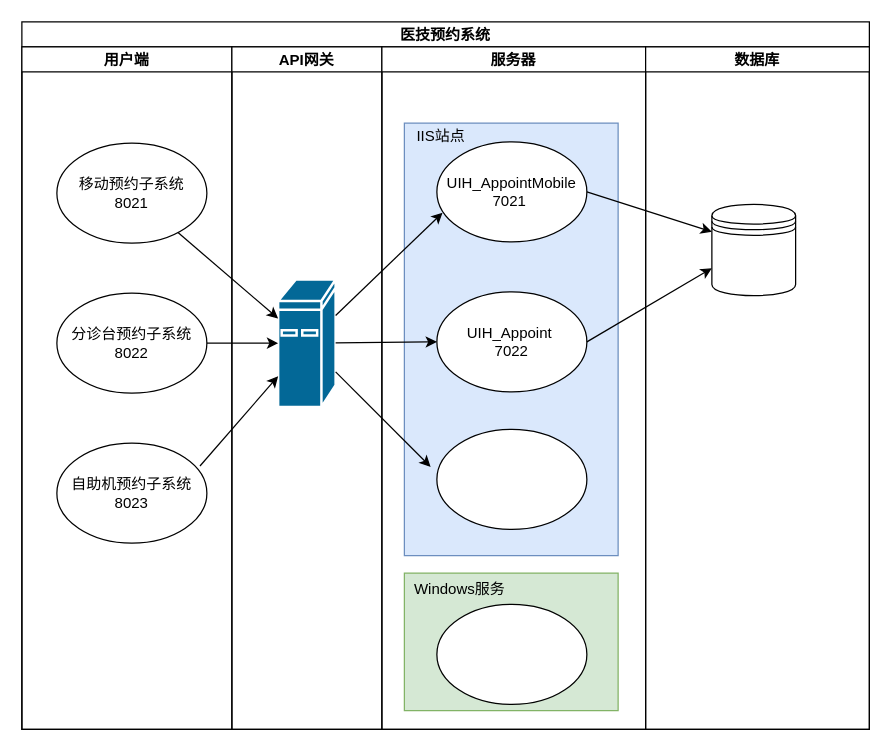
The diagram is 891 pixels wide and 751 high, and some of its shapes have lost their labels. The shapes that lost their labels are listed below. From the top down, each one's centre as x and y in pixels, then its label:
At point (753, 249): "DB".
At point (511, 478): "UIH_AppointSelfService 7023".
At point (511, 653): "UIHAppointWinService".
